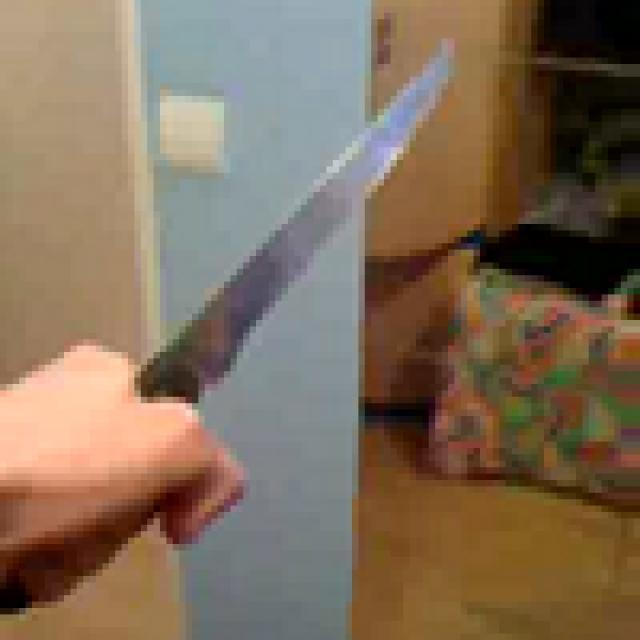knife: (64, 19, 506, 557)
